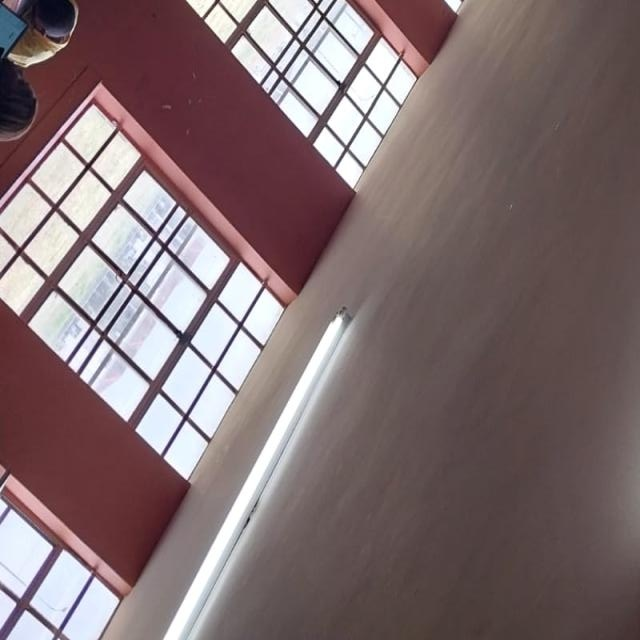fluorescent tube: (148, 258, 378, 640), (639, 0, 640, 551)
